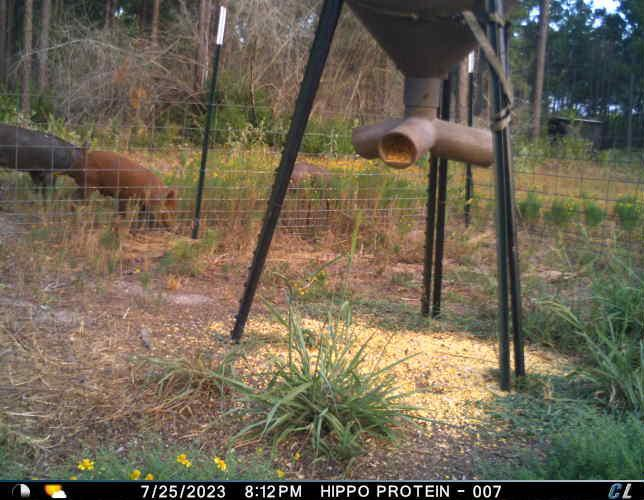Hog: (72, 145, 180, 232), (0, 117, 93, 188)
